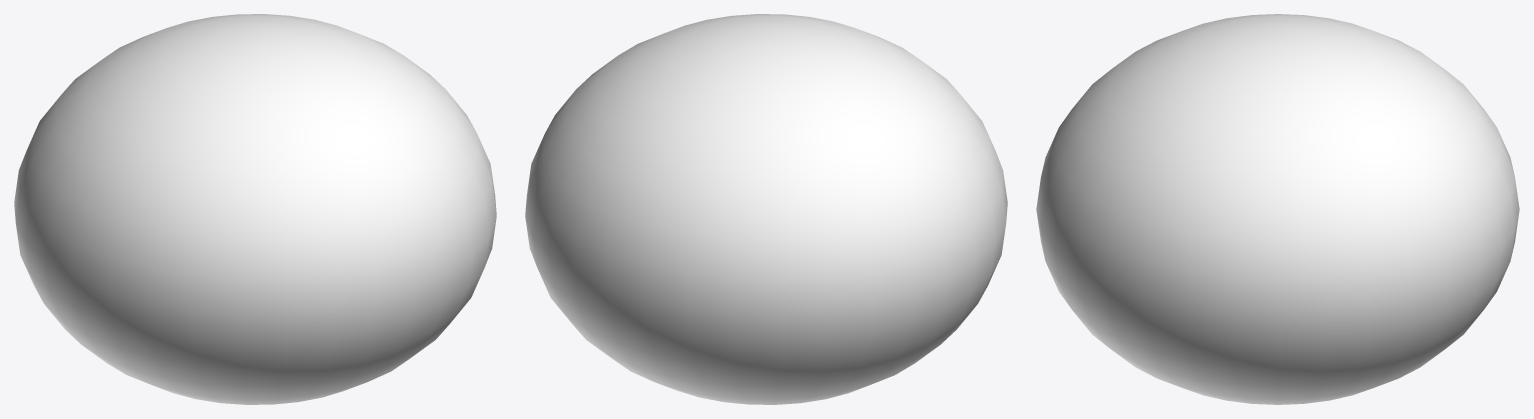
File: mozzarella.gltf
3 views of the same model, side by side, from view 1: azimuth 30°, elevation 25°; view 2: azimuth 150°, elevation 25°; view 3: azimuth 270°, elevation 25° (orthographic).
Parts seen in each view (by area): view 1: Sphere; view 2: Sphere; view 3: Sphere.
Part boxes in pixels (box(x1,y1,x2,y2)): Sphere: box(14, 14, 496, 404); Sphere: box(525, 14, 1007, 404); Sphere: box(1036, 14, 1519, 404).
Bounding box in the file's own units: 2 × 1.52 × 2.
1 material, 1 textured.
